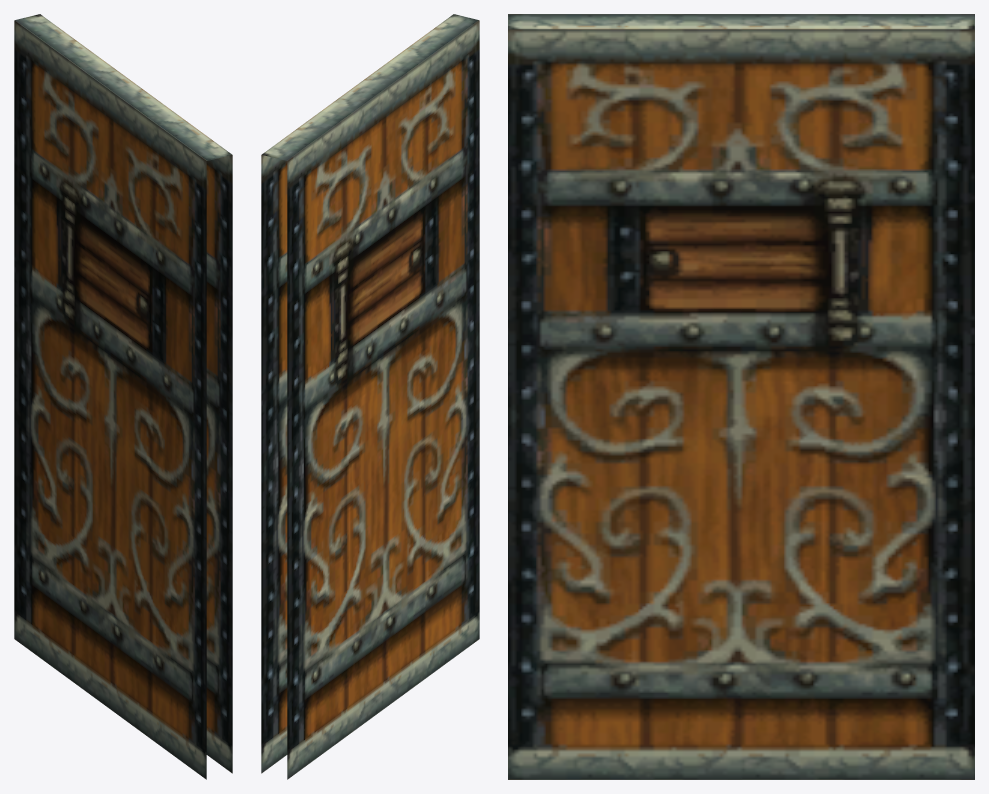
Rendered from INST_EKH_JAILDOOR.fbx.
3 views of the same model, side by side, from view 1: azimuth 30°, elevation 25°; view 2: azimuth 150°, elevation 25°; view 3: azimuth 270°, elevation 25° (orthographic). The views are drawn at different scales.
Parts seen in each view (by area): view 1: INST_EKH_JAILDOOR; view 2: INST_EKH_JAILDOOR; view 3: INST_EKH_JAILDOOR.
Part boxes in pixels (x1,y1,x2,y2): INST_EKH_JAILDOOR: (14,14,232,779); INST_EKH_JAILDOOR: (261,14,479,779); INST_EKH_JAILDOOR: (508,14,974,779).
Size of the model in its own units: 851 by 19530 by 11004.
1 material, 1 textured.
